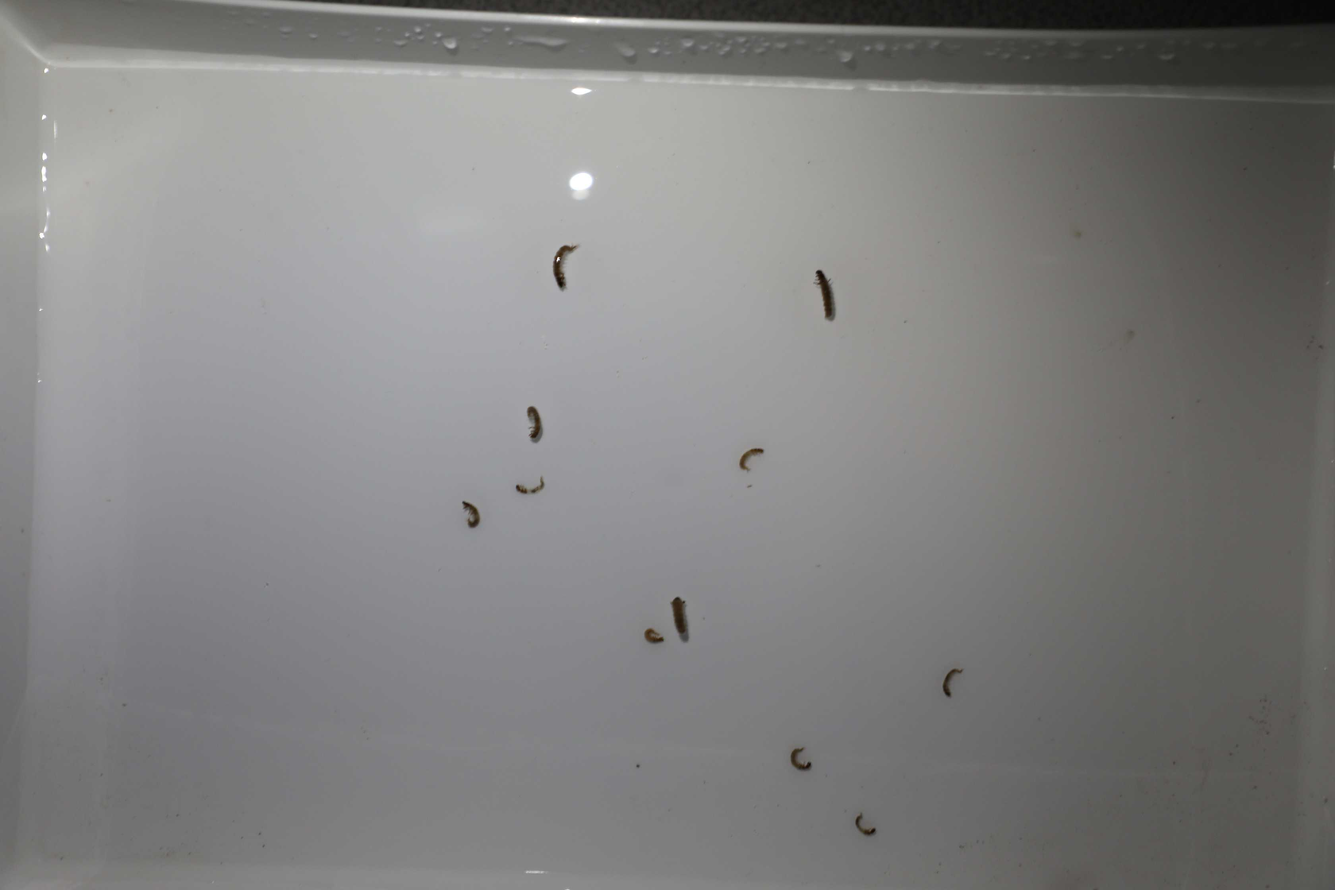Cadisfly: (809, 267, 840, 329), (548, 244, 578, 292), (733, 443, 769, 474), (940, 664, 966, 705), (667, 594, 690, 639), (457, 499, 487, 532), (522, 405, 545, 447), (852, 812, 885, 840), (781, 746, 814, 771), (509, 481, 548, 499), (644, 627, 665, 646)
